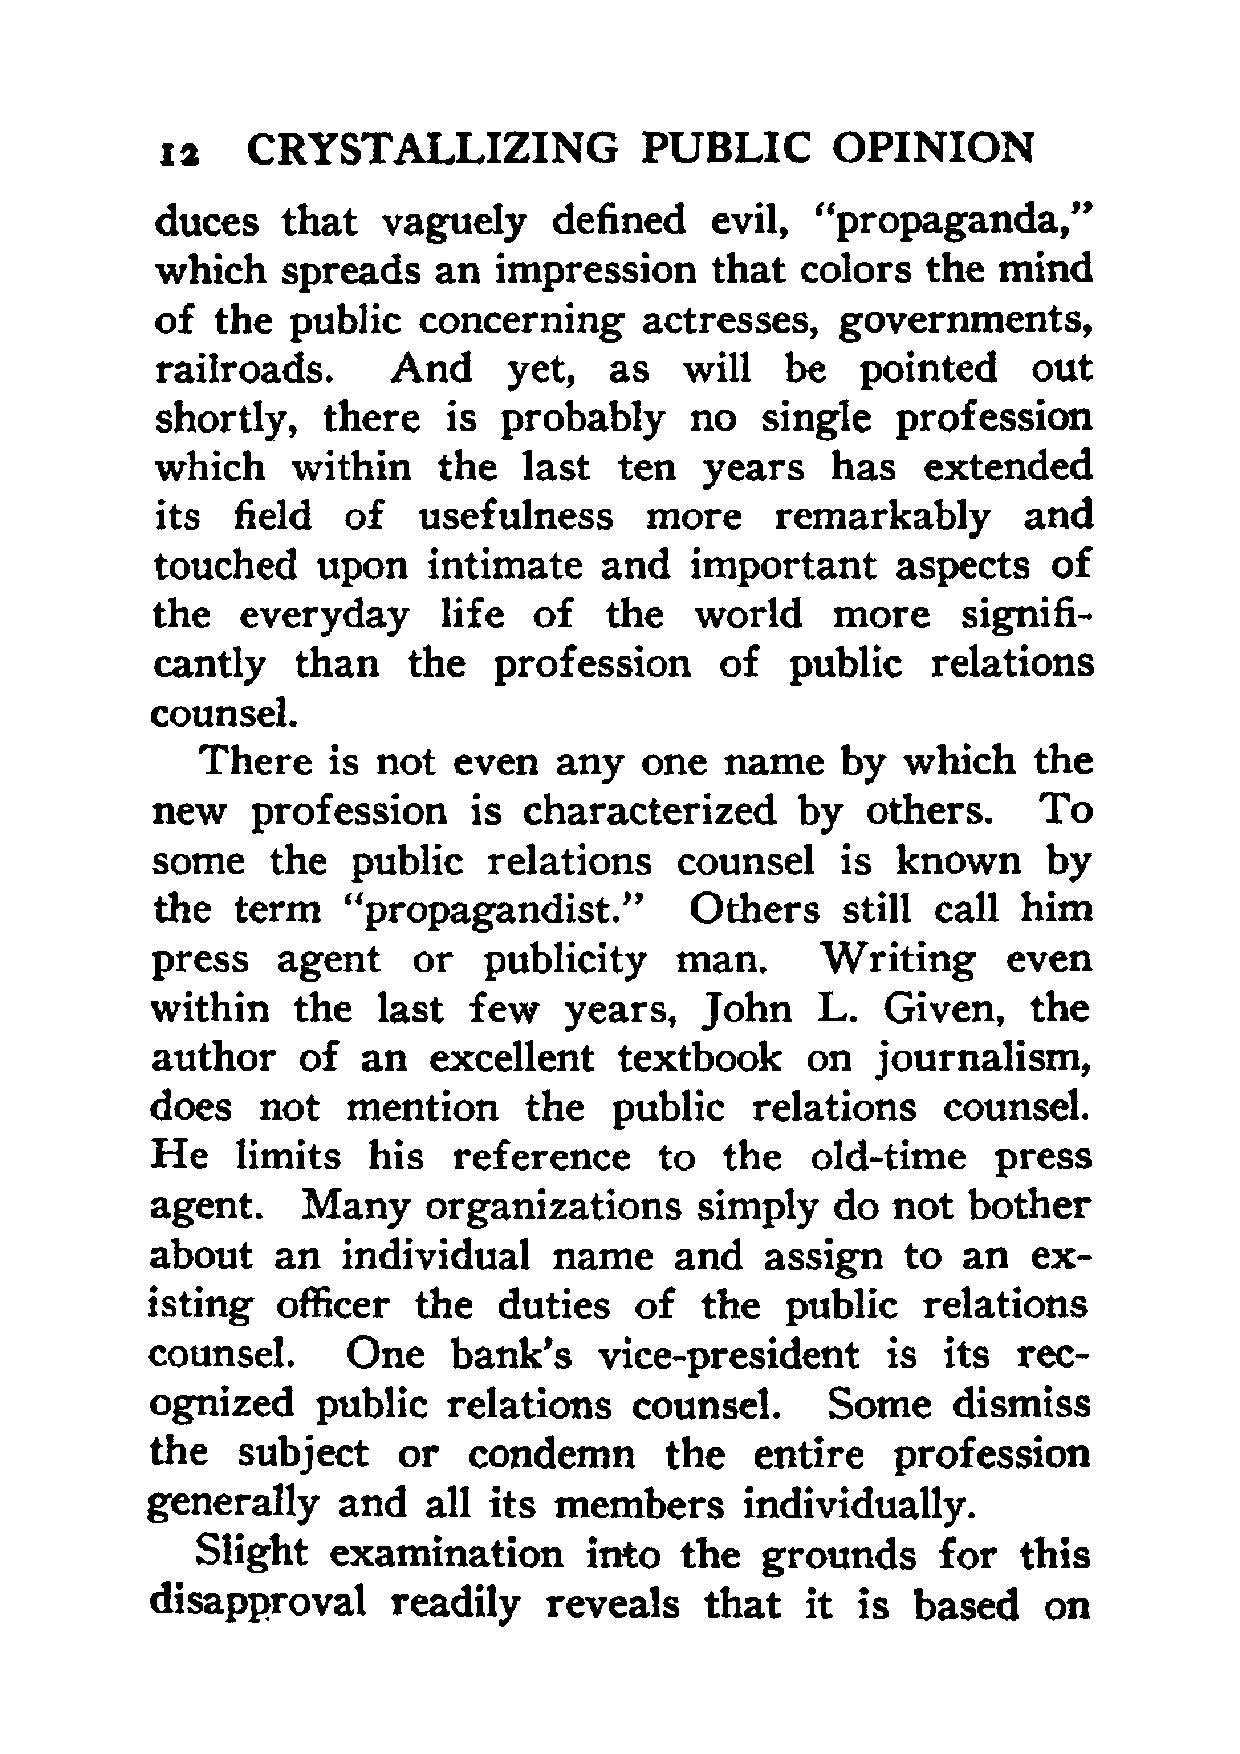content: (144, 197, 1098, 1629)
content_chapter: (246, 126, 1037, 165)
content_pagenumber: (156, 136, 203, 170)
